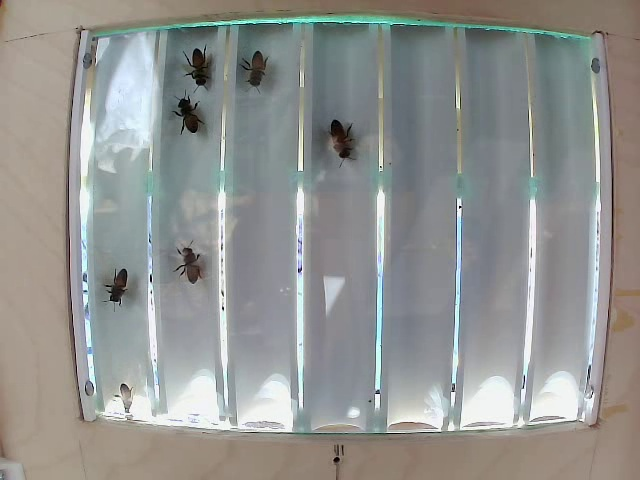bee: (316, 107, 371, 175), (172, 87, 217, 145), (242, 41, 281, 102), (173, 248, 219, 297), (91, 259, 125, 310), (186, 41, 221, 90)
